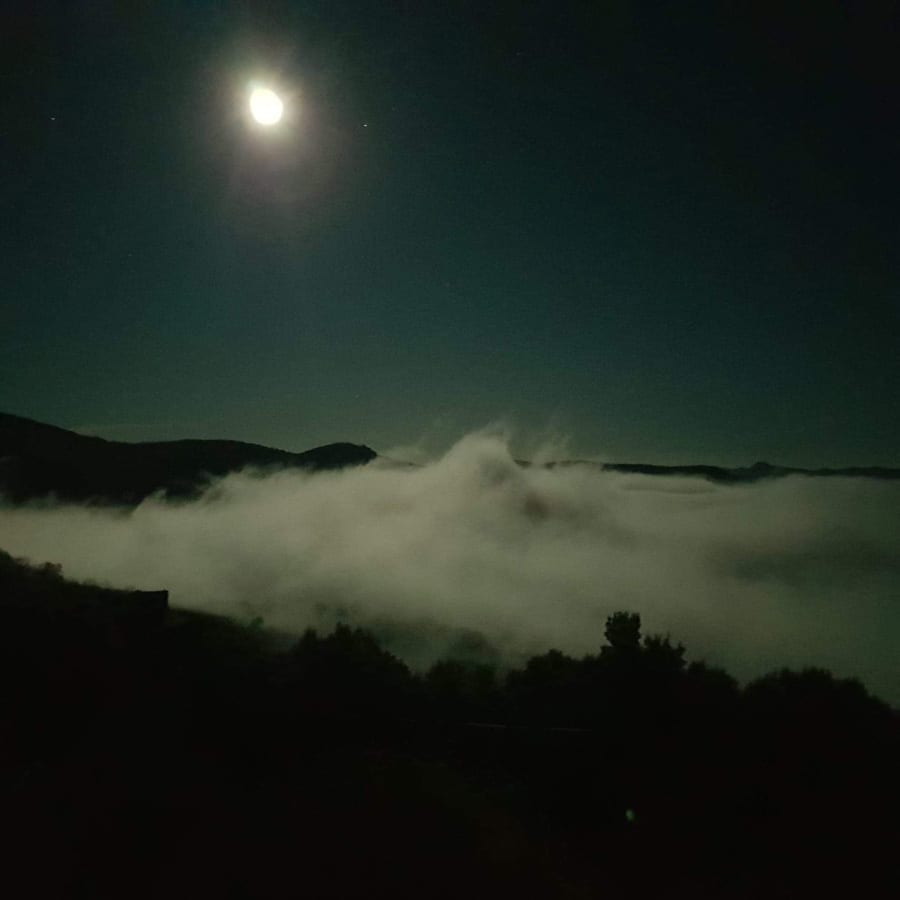Stratus: (40, 414, 900, 653)
